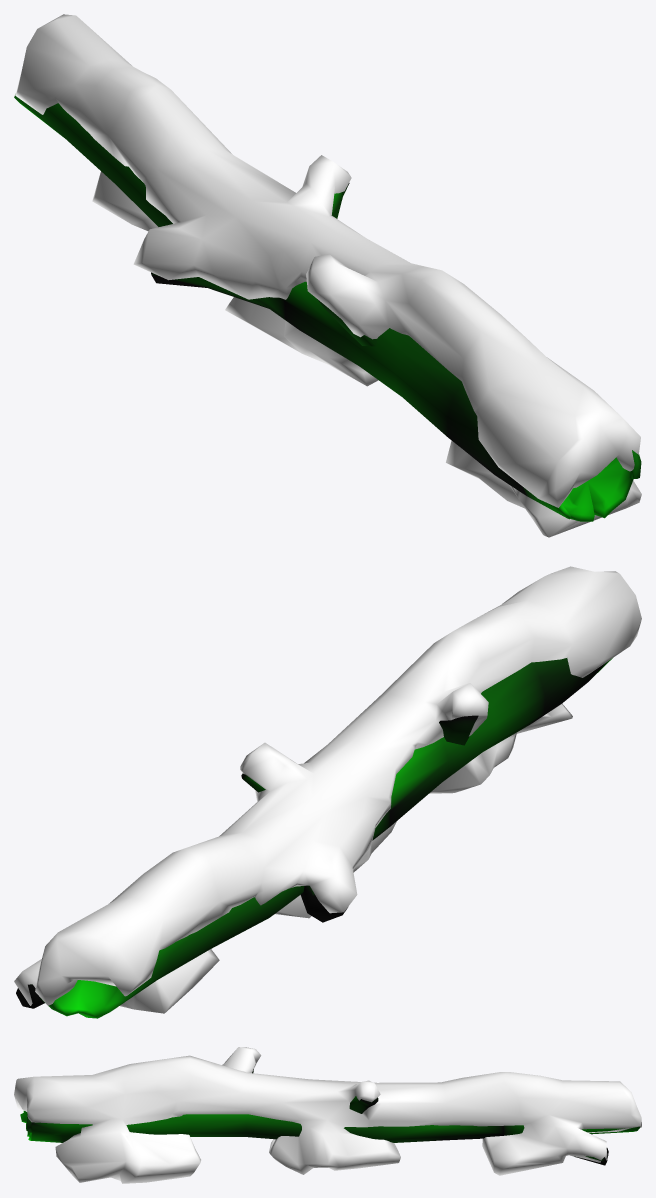
The model's file is SM_PineFallen1_SnowCover.FBX.
The picture shows the model from 3 angles, top to bottom: view 1: azimuth 30°, elevation 25°; view 2: azimuth 150°, elevation 25°; view 3: azimuth 270°, elevation 25°; orthographic projection. The views are drawn at different scales.
Visible parts, largest first — view 1: SM_PineFallen1_SnowCover_LOD0; view 2: SM_PineFallen1_SnowCover_LOD0; view 3: SM_PineFallen1_SnowCover_LOD0.
Boxes of the visible parts, <box> form: SM_PineFallen1_SnowCover_LOD0: <box>14,14,641,537</box>; SM_PineFallen1_SnowCover_LOD0: <box>14,566,641,1018</box>; SM_PineFallen1_SnowCover_LOD0: <box>14,1047,641,1183</box>.
Size of what is drawn, in the model's own units: 208 by 186 by 998.
